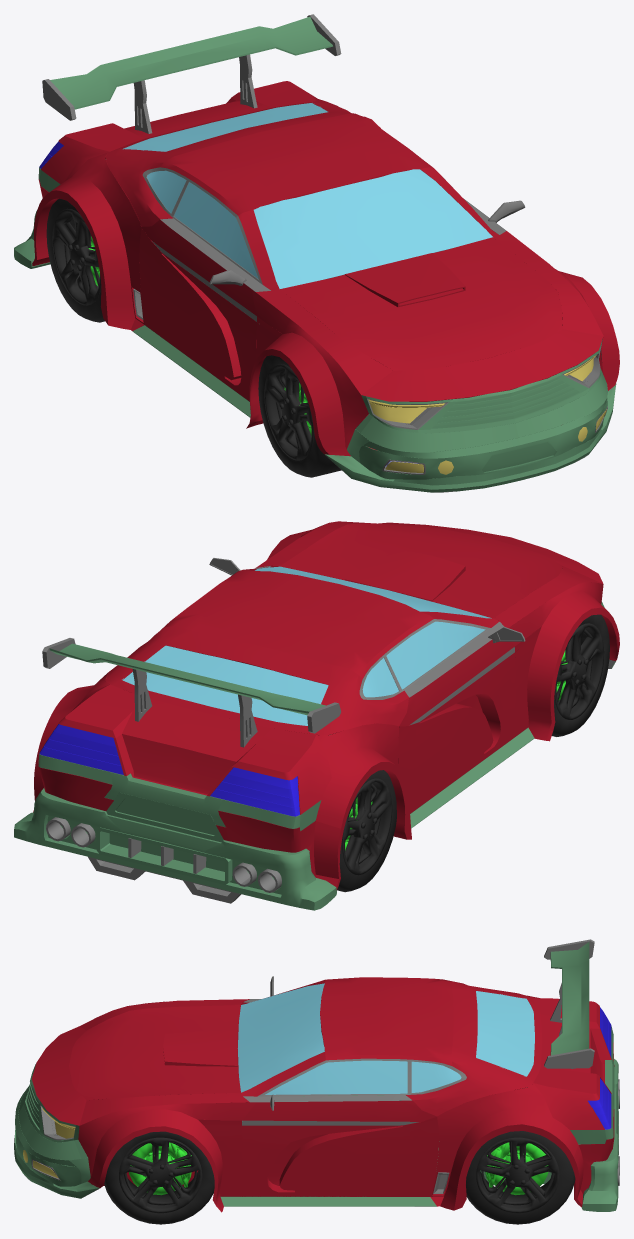
File: retopo rocker final_AutoSmooth.fbx
3 renders of one model, top to bottom at view 1: azimuth 30°, elevation 25°; view 2: azimuth 150°, elevation 25°; view 3: azimuth 270°, elevation 25°, orthographic. The views are drawn at different scales.
Visible parts, largest first — view 1: carbody, extras2_l, nontransperentglass_l, extras_l, breaks_l.002, breaks_l.003, trasperentglass_l; view 2: carbody, extras2_l, nontransperentglass_l, extras_l, backglass_l, breaks_l.003, breaks_l.002; view 3: carbody, nontransperentglass_l, extras2_l, wheel_l.003, breaks_l.001, extras_l, backglass_l, trasperentglass_l.
Boxes of the visible parts, x1=… form: carbody: x1=32, y1=81, x2=619, y2=456; extras2_l: x1=14, y1=16, x2=616, y2=492; nontransperentglass_l: x1=122, y1=103, x2=492, y2=288; extras_l: x1=42, y1=14, x2=611, y2=492; breaks_l.002: x1=258, y1=355, x2=361, y2=477; breaks_l.003: x1=46, y1=199, x2=104, y2=322; trasperentglass_l: x1=368, y1=355, x2=606, y2=474; carbody: x1=33, y1=521, x2=619, y2=889; extras2_l: x1=14, y1=601, x2=615, y2=910; nontransperentglass_l: x1=122, y1=566, x2=491, y2=725; extras_l: x1=42, y1=558, x2=615, y2=903; backglass_l: x1=39, y1=724, x2=299, y2=816; breaks_l.003: x1=337, y1=770, x2=396, y2=892; breaks_l.002: x1=551, y1=614, x2=609, y2=736; carbody: x1=32, y1=977, x2=614, y2=1212; nontransperentglass_l: x1=237, y1=983, x2=534, y2=1094; extras2_l: x1=14, y1=942, x2=618, y2=1211; wheel_l.003: x1=466, y1=1131, x2=575, y2=1224; breaks_l.001: x1=104, y1=1131, x2=214, y2=1224; extras_l: x1=24, y1=939, x2=619, y2=1197; backglass_l: x1=588, y1=1007, x2=611, y2=1129; trasperentglass_l: x1=23, y1=1108, x2=75, y2=1178.
Bounding box in the file's own units: 192 × 121 × 380.
